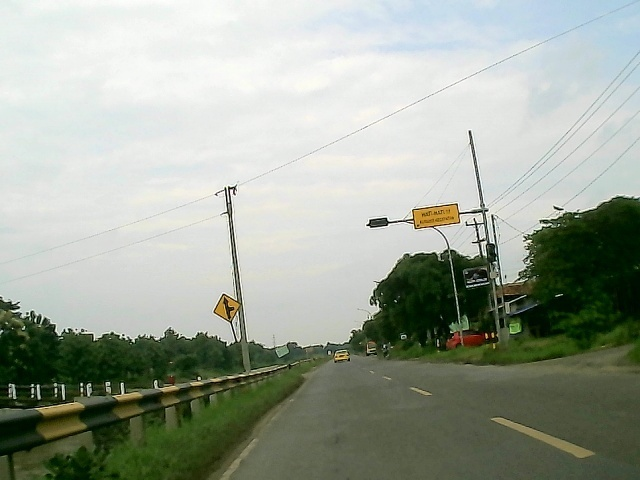Simpang kanan dengan prioritas: (211, 292, 242, 323)
